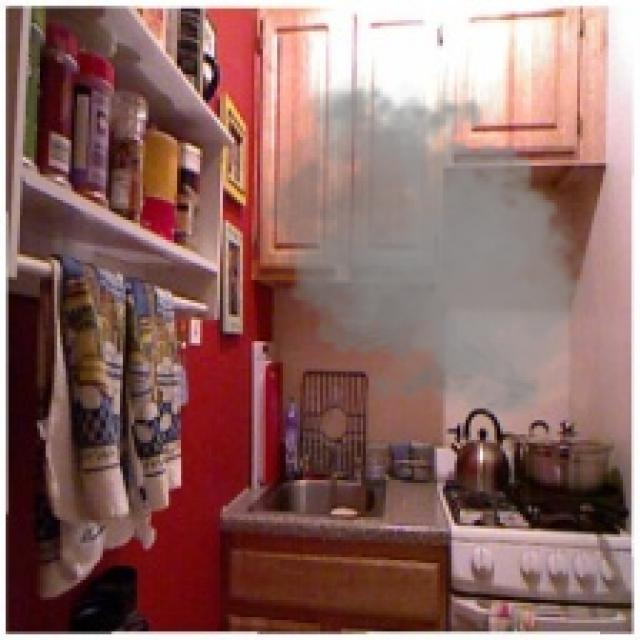smoke: (243, 74, 600, 423)
